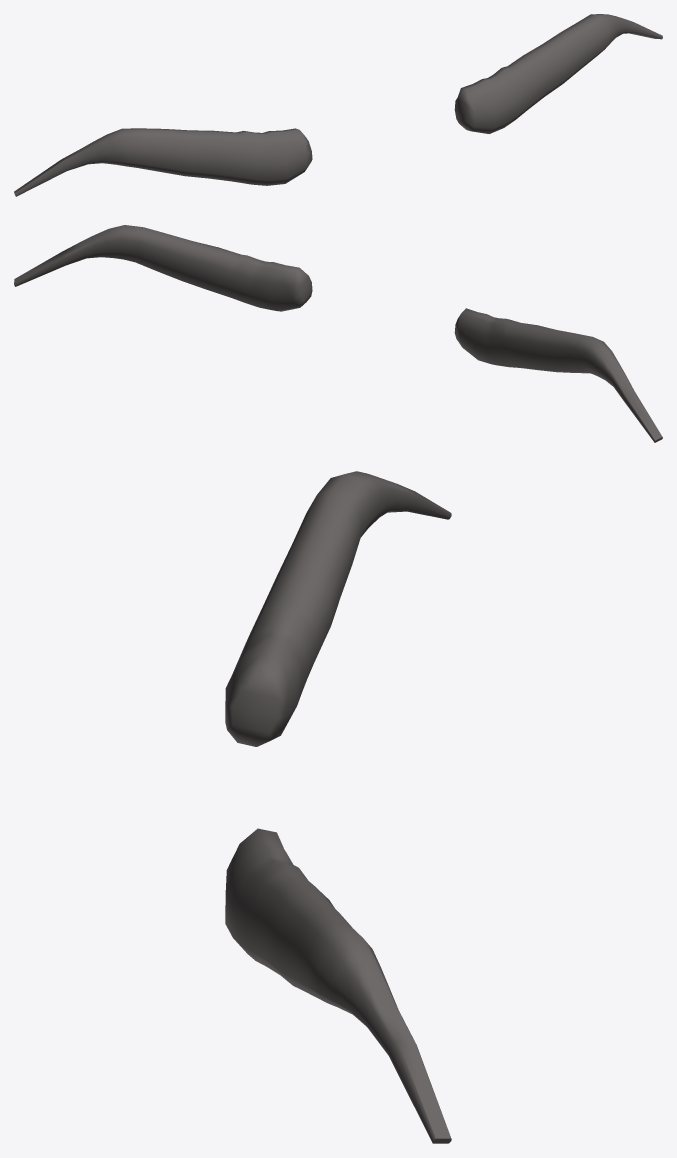
File: Eyebrows_08_04.fbx
3 views of the same model, one above another, from view 1: azimuth 30°, elevation 25°; view 2: azimuth 150°, elevation 25°; view 3: azimuth 270°, elevation 25° (orthographic). The views are drawn at different scales.
Parts seen in each view (by area): view 1: Eyebrows_08_04; view 2: Eyebrows_08_04; view 3: Eyebrows_08_04.
Boxes of the visible parts, box(x1,y1,x2,y2) form: Eyebrows_08_04: box(14, 14, 662, 196); Eyebrows_08_04: box(14, 225, 662, 442); Eyebrows_08_04: box(225, 471, 451, 1143).
Bounding box in the file's own units: 19.15 × 1.96 × 2.9.
